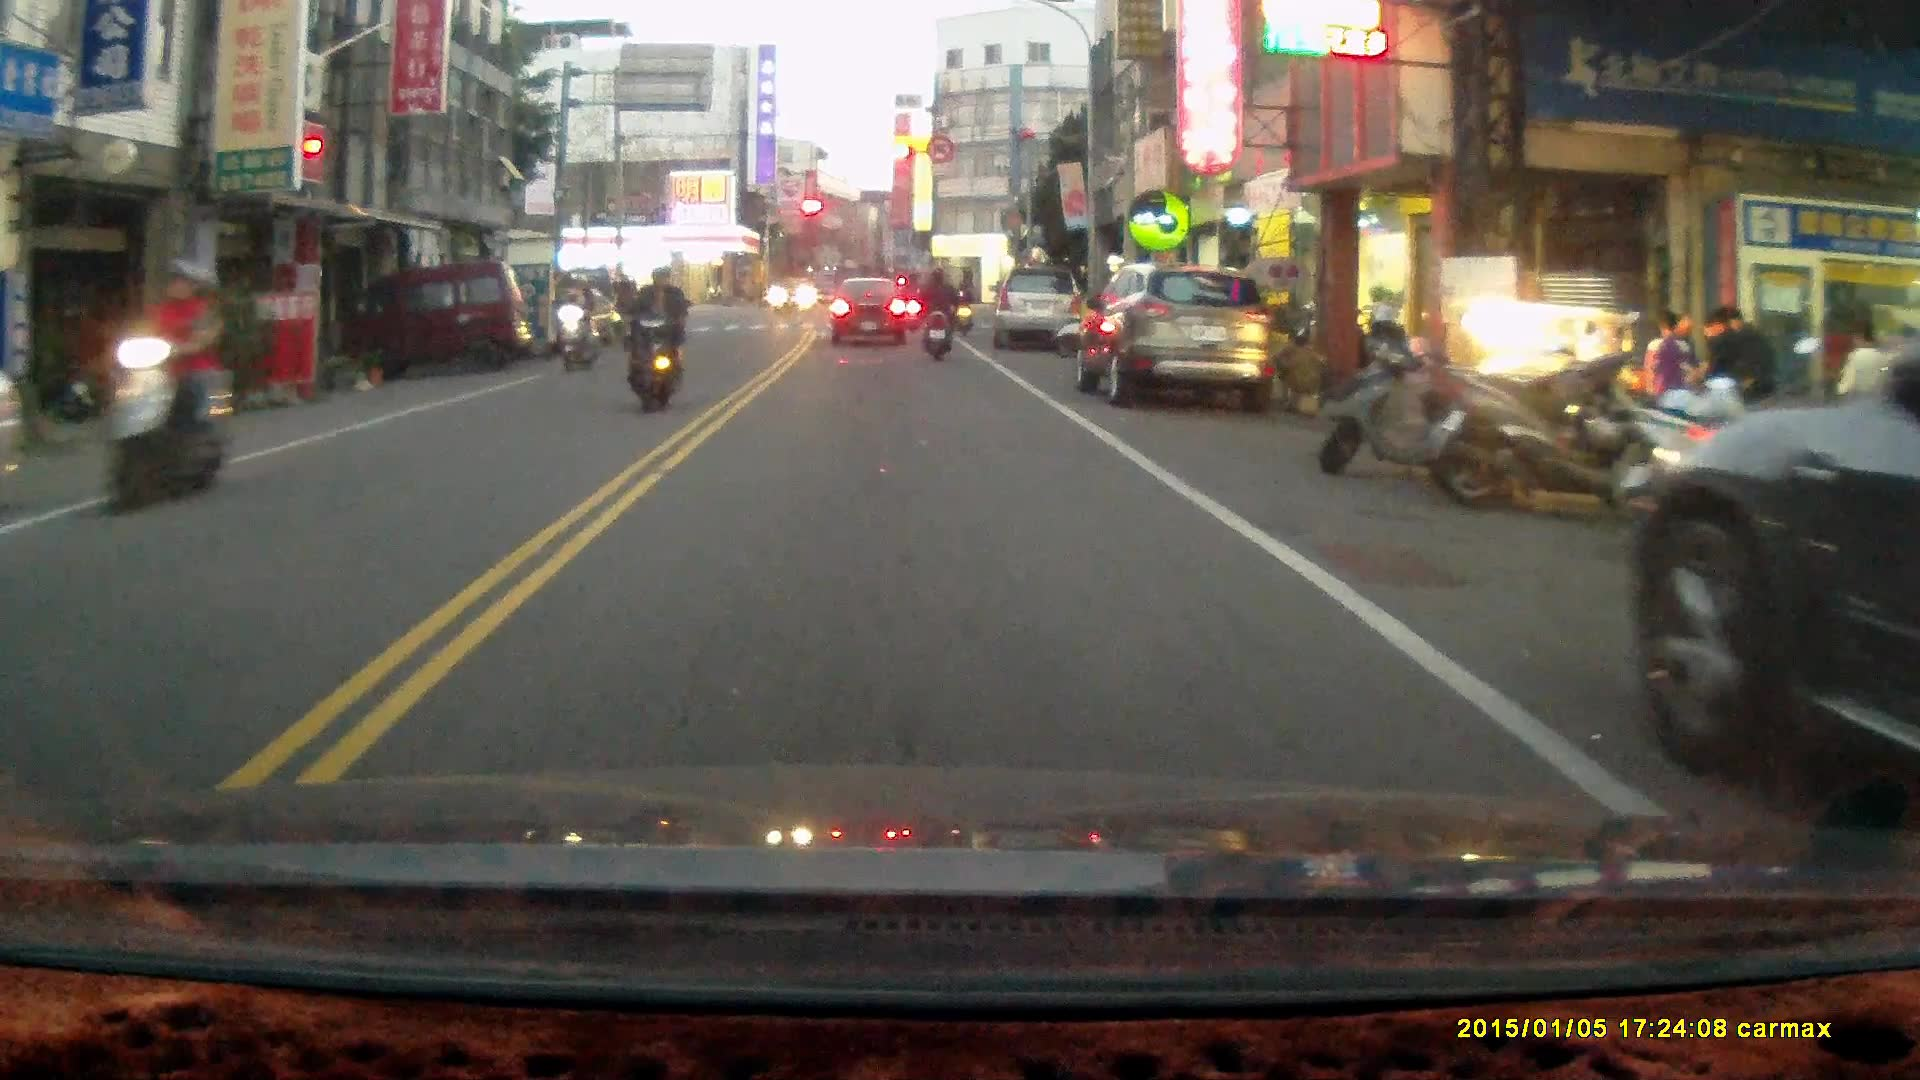pedestrian: (1701, 310, 1762, 455), (1831, 320, 1891, 459), (1642, 305, 1691, 450)
rider: (99, 254, 230, 516), (614, 265, 686, 415), (552, 269, 601, 374), (916, 263, 957, 364), (603, 272, 640, 357), (896, 268, 922, 328), (952, 277, 976, 338)
vehicle: (1629, 297, 1920, 820), (1076, 265, 1279, 413), (335, 265, 535, 381), (999, 267, 1085, 352)
